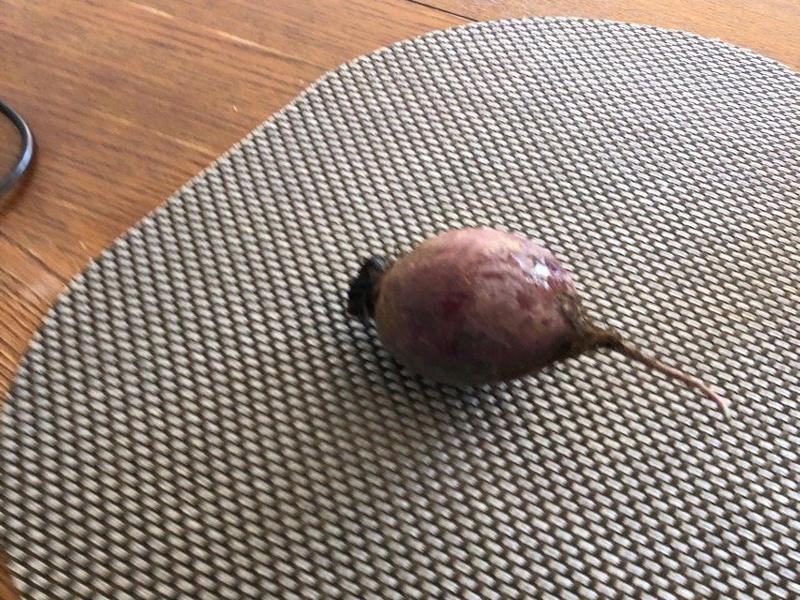Beet: (345, 228, 730, 419)
